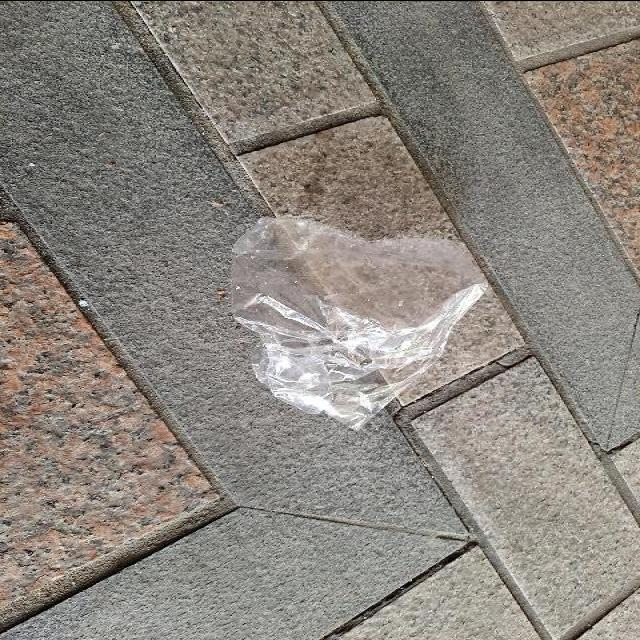plastic bag: (224, 213, 492, 432)
